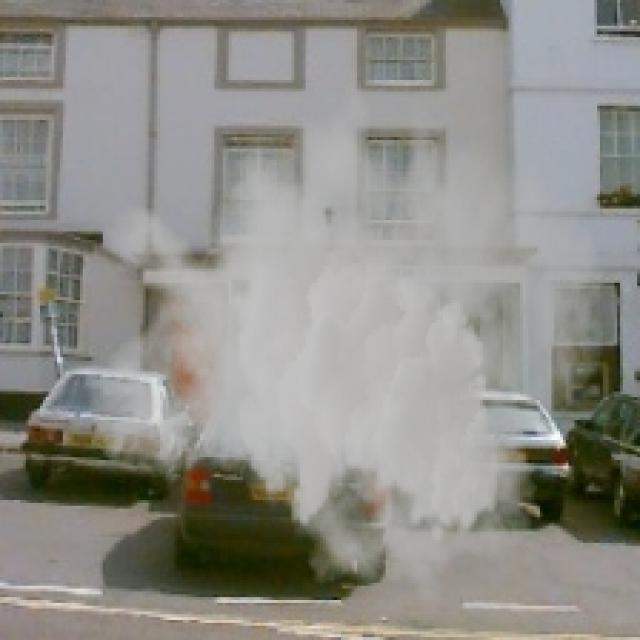Smoke: (85, 54, 606, 606)
